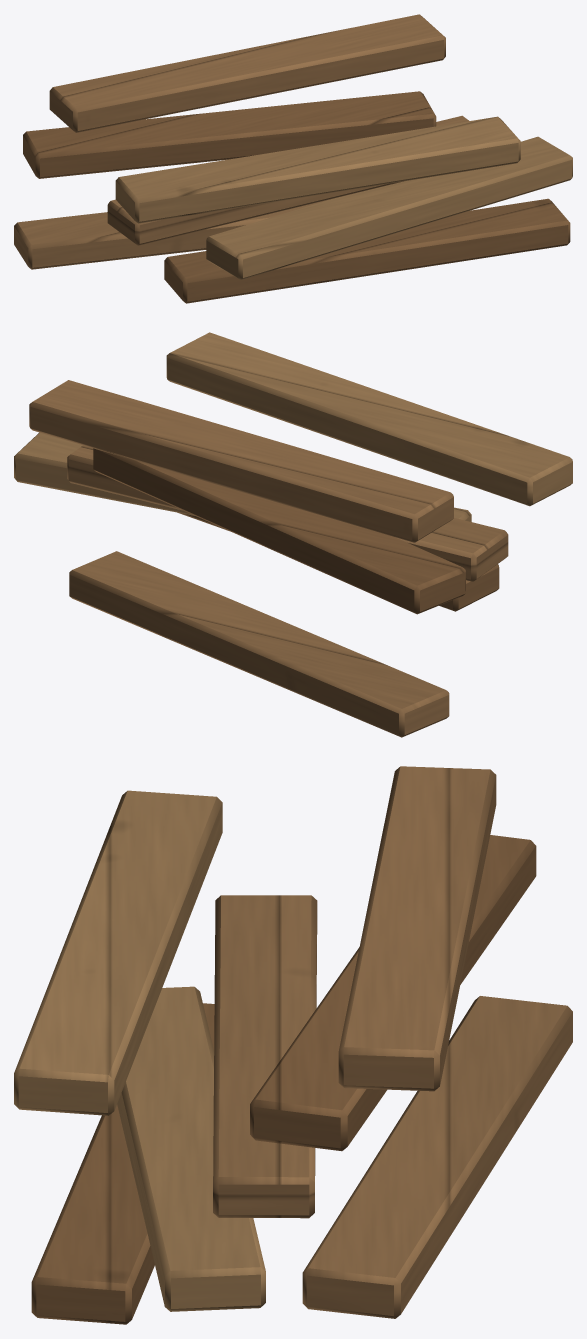
File: scrap_pile_wood.glb
The picture shows the model from 3 angles, top to bottom: view 1: azimuth 30°, elevation 25°; view 2: azimuth 150°, elevation 25°; view 3: azimuth 270°, elevation 25°; orthographic projection. The views are drawn at different scales.
Parts seen in each view (by area): view 1: scrap_pile_wood; view 2: scrap_pile_wood; view 3: scrap_pile_wood.
Boxes of the visible parts, x1,y1,x2,y2 form: scrap_pile_wood: [14, 14, 572, 303]; scrap_pile_wood: [14, 332, 572, 737]; scrap_pile_wood: [14, 766, 572, 1324].
Size of the model in its own units: 1.53 by 0.56 by 0.989.
3 materials, 3 textured.
